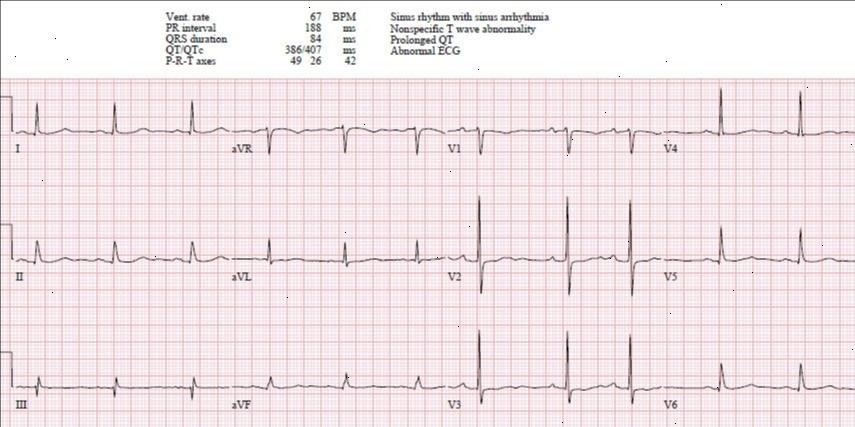Lead_I: (12, 94, 232, 156)
Lead_II: (10, 227, 232, 285)
Lead_III: (15, 358, 232, 413)
Lead_V1: (447, 108, 663, 166)
Lead_V2: (443, 186, 662, 300)
Lead_V3: (445, 315, 664, 420)
Lead_V4: (664, 80, 855, 158)
Lead_V5: (661, 215, 855, 293)
Lead_V6: (663, 350, 855, 420)
Lead_aVF: (230, 358, 446, 415)
Lead_aVL: (231, 226, 445, 288)
Lead_aVR: (228, 105, 446, 159)
